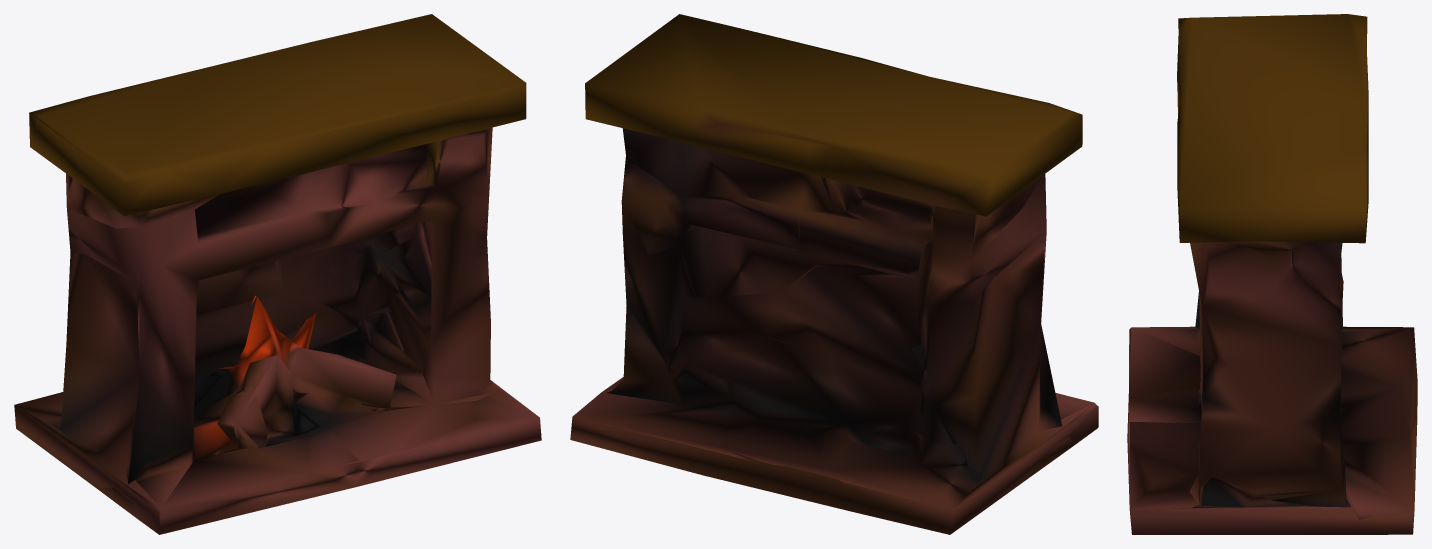
File: gen3d-fireplace-lod1.glb
The picture shows the model from 3 angles, left to right: view 1: azimuth 30°, elevation 25°; view 2: azimuth 150°, elevation 25°; view 3: azimuth 270°, elevation 25°; orthographic projection.
Visible parts, largest first — view 1: part_0; view 2: part_0; view 3: part_0.
Part boxes in pixels (box(x1,y1,x2,y2)): part_0: box(14, 14, 541, 534); part_0: box(570, 14, 1098, 534); part_0: box(1127, 14, 1417, 534).
Size of the model in its own units: 1.24 by 0.9999 by 0.7831.
